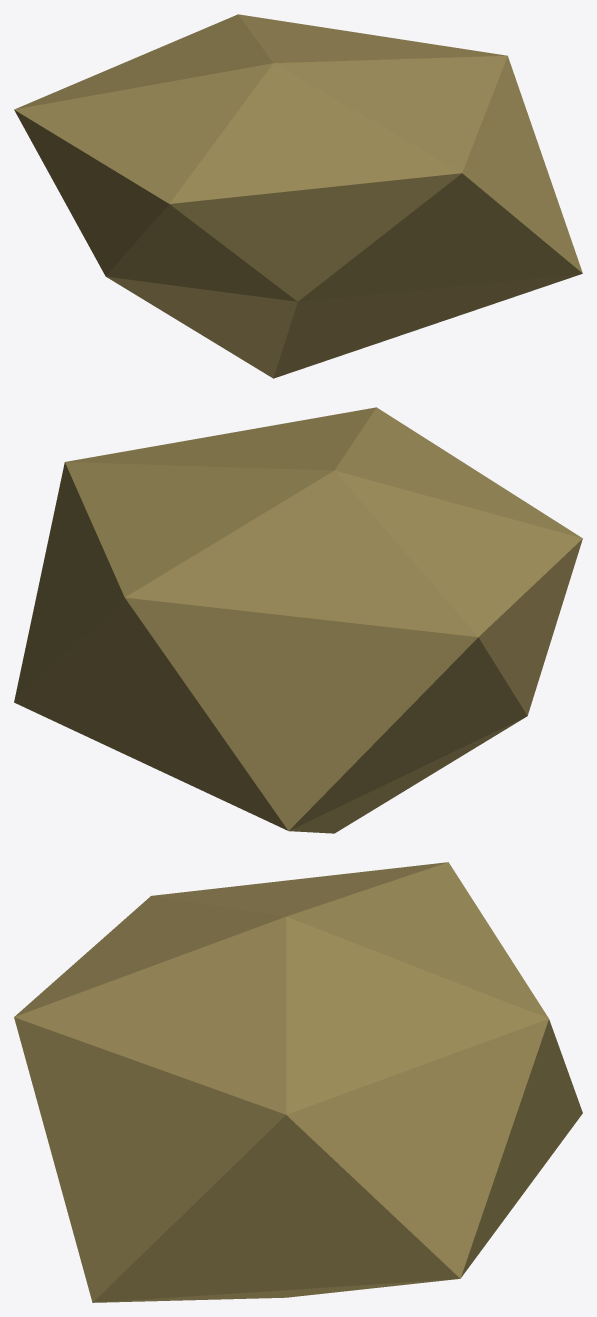
Rendered from buske_torr_2.glb.
The picture shows the model from 3 angles, top to bottom: view 1: azimuth 30°, elevation 25°; view 2: azimuth 150°, elevation 25°; view 3: azimuth 270°, elevation 25°; orthographic projection. The views are drawn at different scales.
Visible parts, largest first — view 1: buske_torr_2; view 2: buske_torr_2; view 3: buske_torr_2.
Part boxes in pixels (<box>): buske_torr_2: <box>14,14,582,378</box>; buske_torr_2: <box>14,407,582,833</box>; buske_torr_2: <box>14,862,582,1302</box>.
Size of the model in its own units: 1.43 by 1.01 by 1.37.
